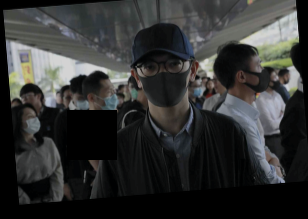with_mask: (140, 53, 192, 105), (245, 57, 272, 93), (95, 84, 119, 112), (21, 110, 41, 135), (74, 92, 90, 111), (270, 72, 281, 92), (192, 82, 204, 97)
without_mask: (22, 91, 39, 109)
